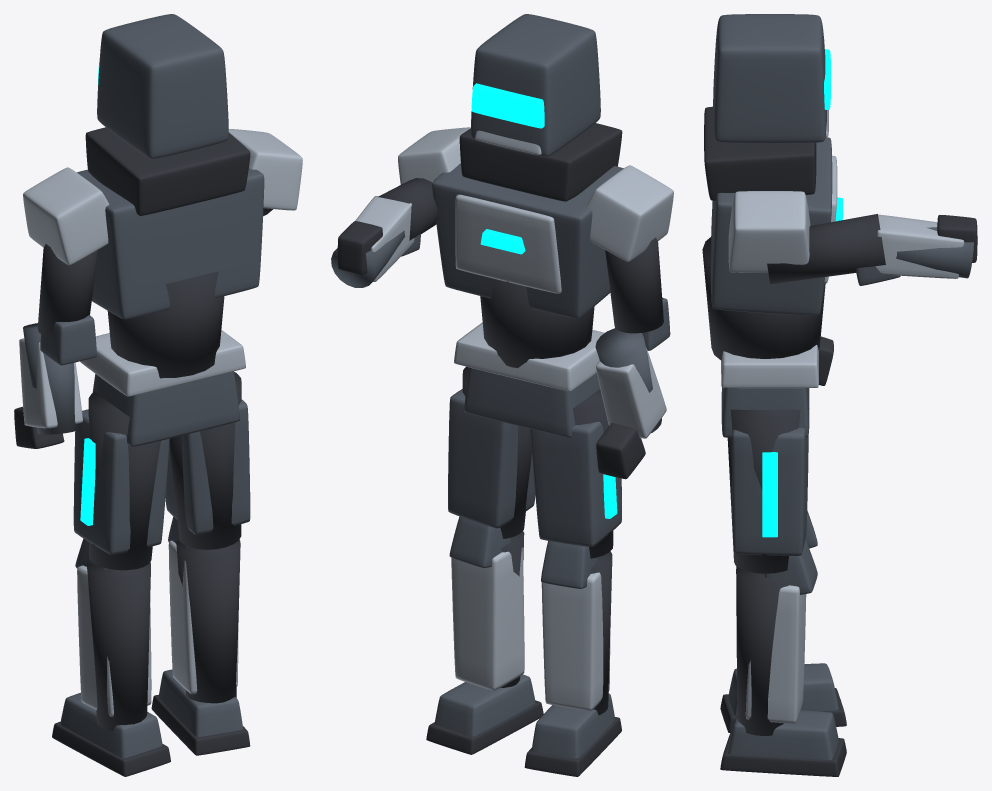
File: jugador_corebreaker.glb
3 renders of one model, left to right at view 1: azimuth 30°, elevation 25°; view 2: azimuth 150°, elevation 25°; view 3: azimuth 270°, elevation 25°, orthographic.
Visible parts, largest first — view 1: Pecho, Casco, CuelloAlto, Pantorrilla_I, Abdomen, Pantorrilla_D, Muslera_I, Cadera, Hombrera_I, MusloBase_I, MusloBase_D, Muslera_D (+14 smaller); view 2: Casco, Pecho, Greba_D, Muslera_I, Muslera_D, Greba_I, CuelloAlto, PlacaPecho, Abdomen, Hombrera_I, Cadera, Cinturon (+23 smaller); view 3: Casco, Muslera_D, Pecho, Hombrera_D, CuelloAlto, Pantorrilla_D, Abdomen, BrazoSup_D, Greba_D, Bota_D, MusloBase_D, Cinturon (+11 smaller).
Boxes of the visible parts, bbox=[...] form: Pecho: bbox=[77, 168, 264, 319]; Casco: bbox=[97, 14, 228, 158]; CuelloAlto: bbox=[85, 127, 250, 215]; Pantorrilla_I: bbox=[87, 562, 150, 730]; Abdomen: bbox=[107, 271, 224, 378]; Pantorrilla_D: bbox=[176, 539, 240, 703]; Muslera_I: bbox=[73, 409, 169, 554]; Cadera: bbox=[92, 371, 240, 446]; Hombrera_I: bbox=[23, 167, 109, 265]; MusloBase_I: bbox=[88, 392, 160, 570]; MusloBase_D: bbox=[169, 372, 241, 549]; Muslera_D: bbox=[165, 399, 250, 534]; Casco: bbox=[471, 14, 600, 156]; Pecho: bbox=[432, 163, 623, 318]; Greba_D: bbox=[451, 547, 524, 690]; Muslera_I: bbox=[530, 421, 621, 546]; Muslera_D: bbox=[448, 389, 535, 528]; Greba_I: bbox=[541, 572, 610, 710]; CuelloAlto: bbox=[459, 123, 622, 201]; PlacaPecho: bbox=[455, 194, 561, 293]; Abdomen: bbox=[480, 278, 594, 368]; Hombrera_I: bbox=[586, 165, 673, 261]; Cadera: bbox=[464, 367, 600, 437]; Cinturon: bbox=[454, 322, 604, 391]; Casco: bbox=[713, 14, 826, 143]; Muslera_D: bbox=[731, 427, 808, 555]; Pecho: bbox=[711, 137, 832, 315]; Hombrera_D: bbox=[728, 191, 810, 272]; CuelloAlto: bbox=[704, 106, 816, 200]; Pantorrilla_D: bbox=[736, 567, 789, 735]; Abdomen: bbox=[702, 237, 825, 360]; BrazoSup_D: bbox=[767, 214, 885, 284]; Greba_D: bbox=[745, 585, 806, 723]; Bota_D: bbox=[728, 710, 838, 759]; MusloBase_D: bbox=[727, 409, 800, 573]; Cinturon: bbox=[721, 345, 818, 388].
Size of the model in its own units: 0.6413 by 1.74 by 0.6098.
